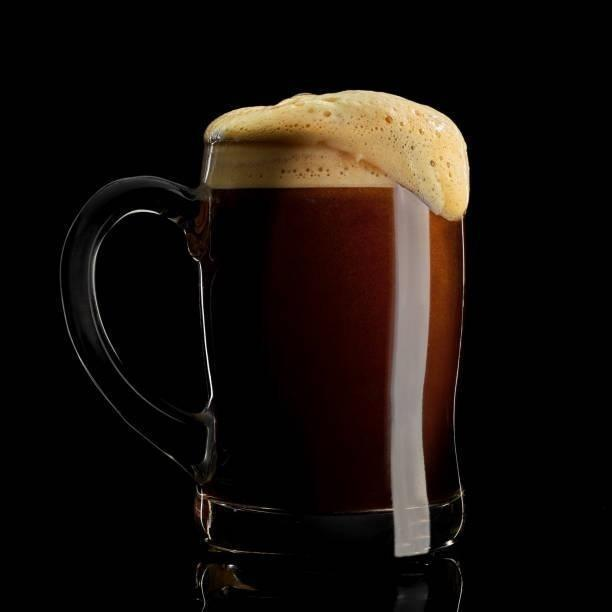glass-mug: (56, 91, 475, 571)
